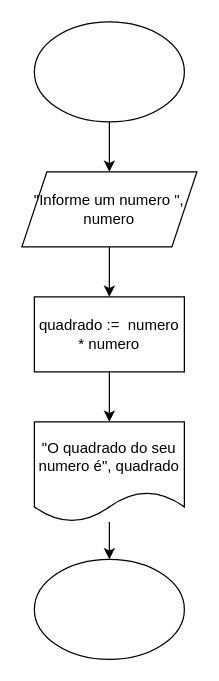
Some shapes in this 219 by 681 pixel diagram are drawn without their labels. Here are the shapes that lost their labels. From the top down, the centre of each, then its label:
the point at 108,71: Inicio
the point at 108,608: Fim
